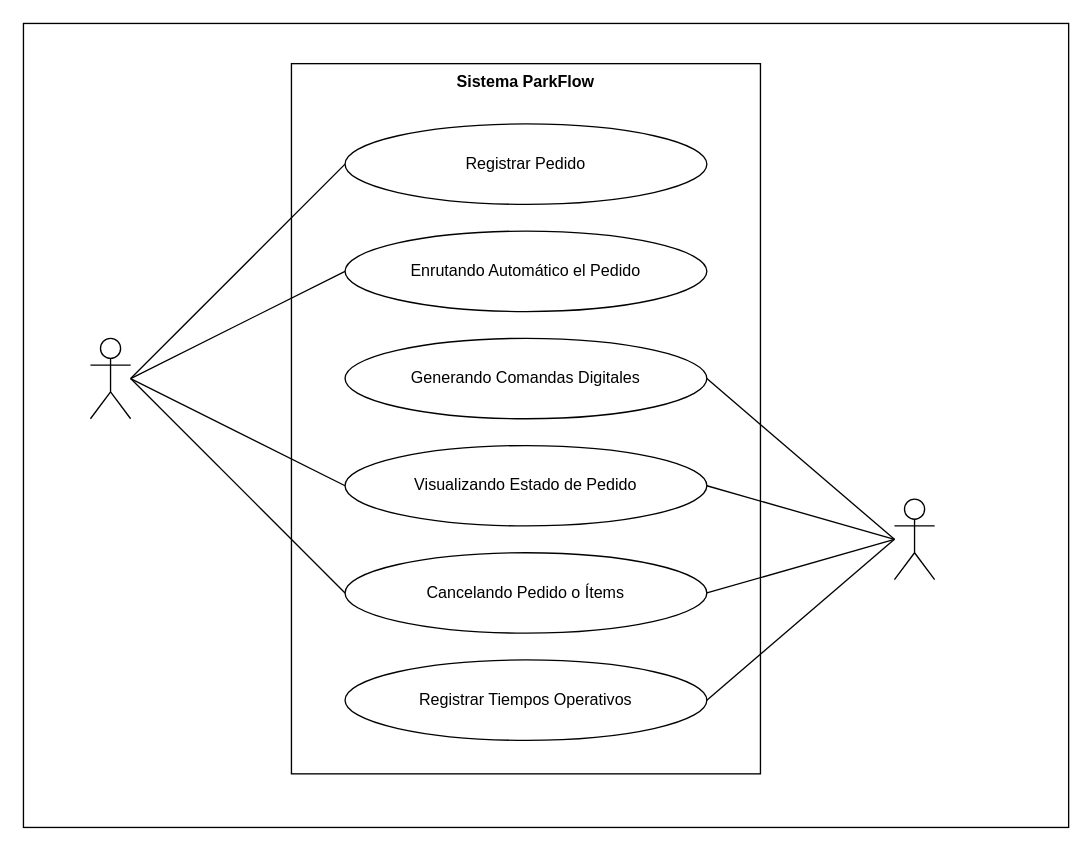
Some shapes in this 1092 by 851 pixel diagram are drawn without their labels. The centre of each missing label's shape, as x and y in pixels:
"Cajero" belongs at (110,378).
"Cocina" belongs at (914,539).
